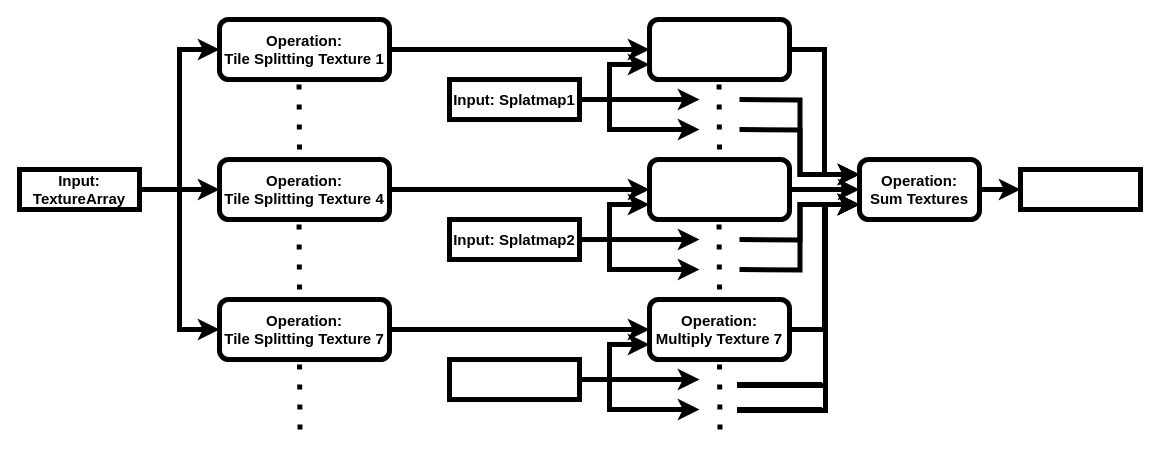
Some shapes in this 1160 by 450 pixel diagram are drawn without their labels. Here are the shapes that lost their labels. From the top down, the centre of each, then its label:
pixel 719 49: Operation: Multiply Texture 1
pixel 719 189: Operation: Multiply Texture 4
pixel 1080 189: Output: Global Texture
pixel 514 379: Input: Splatmap3
